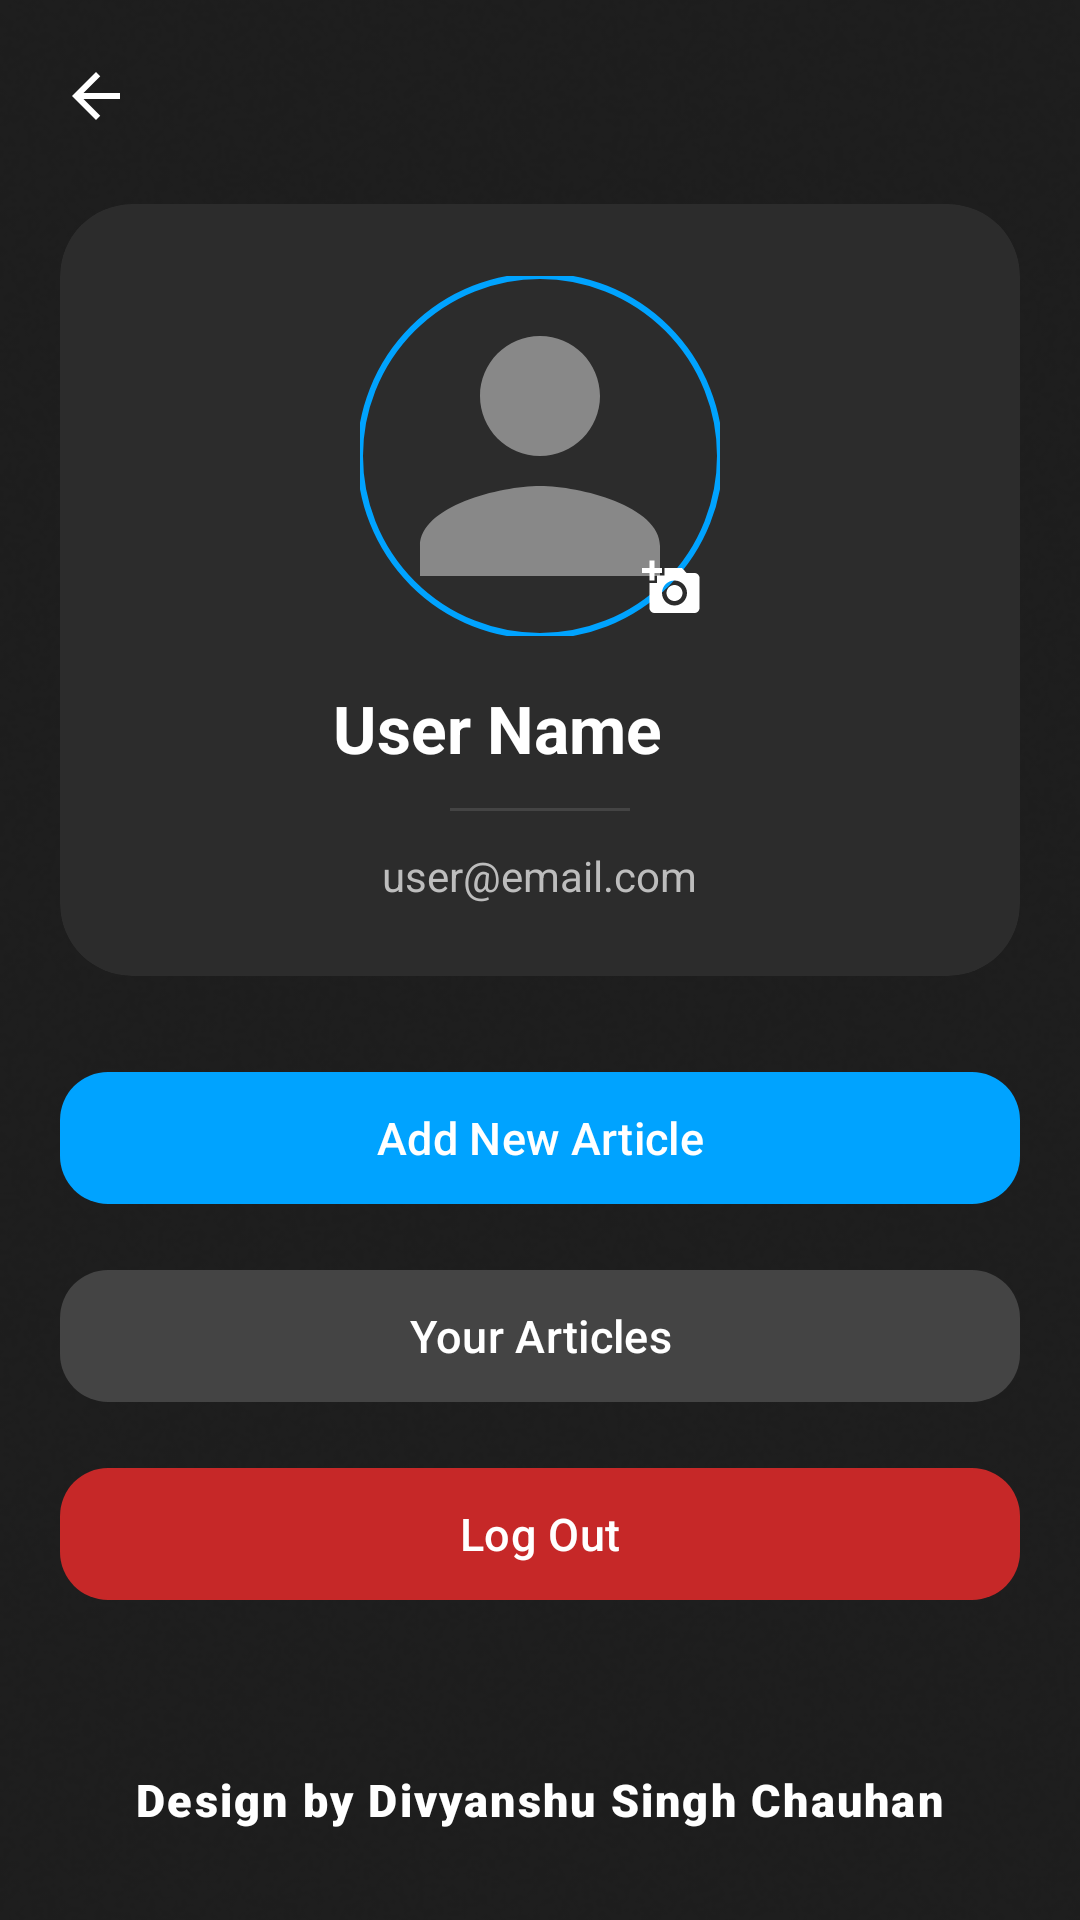

Where icons sit on this 1080x1920 app screen, as box=[x1, y1, x2, y2]:
back: box=[72, 72, 120, 120]
